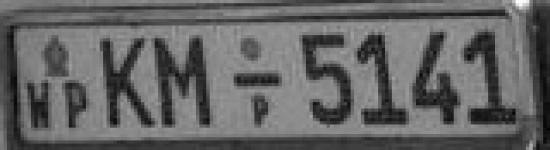-: (231, 70, 286, 92)
1: (463, 27, 523, 130), (352, 31, 411, 131)
4: (409, 28, 461, 130)
5: (296, 28, 354, 133)
K: (100, 31, 153, 136)
M: (152, 30, 220, 133)
P: (64, 74, 97, 132)
W: (23, 76, 62, 136)
